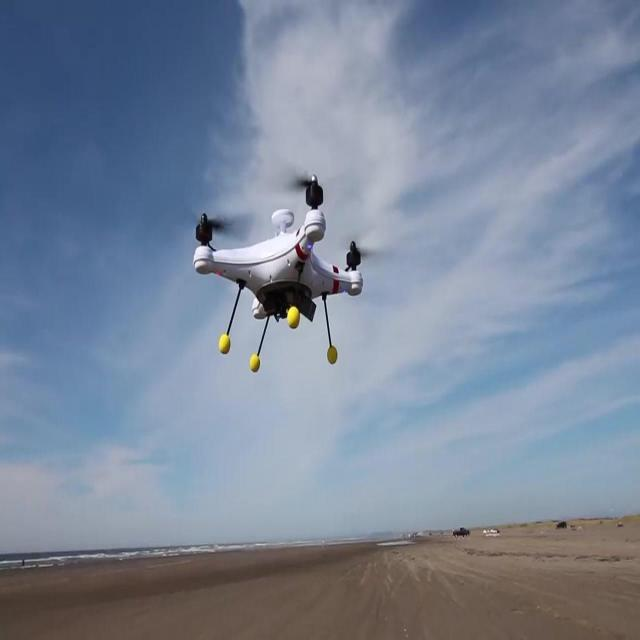UAV: (193, 175, 373, 373)
